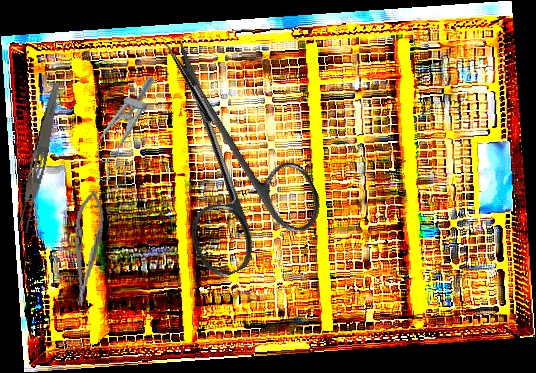Dressing Forceps: (14, 80, 63, 235)
Iris Scissors: (109, 12, 333, 284)
Needle Holder: (65, 189, 108, 308)
Speculum: (84, 67, 164, 193)
